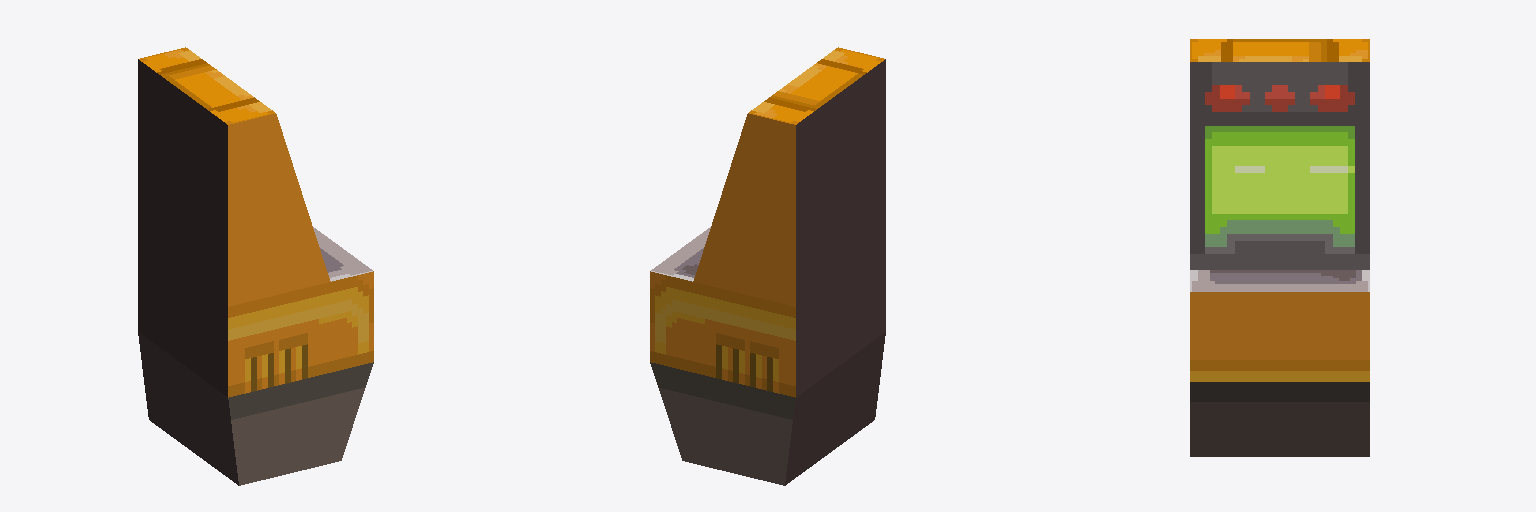
The picture shows the model from 3 angles: view 1: azimuth 30°, elevation 25°; view 2: azimuth 150°, elevation 25°; view 3: azimuth 270°, elevation 25°; orthographic projection.
Parts seen in each view (by area): view 1: singleSlot_polygon11.001_polygon11.001; view 2: singleSlot_polygon11.001_polygon11.001; view 3: singleSlot_polygon11.001_polygon11.001.
Part boxes in pixels (x1,y1,x2,y2): singleSlot_polygon11.001_polygon11.001: (138, 47, 373, 485); singleSlot_polygon11.001_polygon11.001: (650, 47, 885, 485); singleSlot_polygon11.001_polygon11.001: (1190, 39, 1369, 456).
Size of the model in its own units: 0.8395 by 2 by 0.9.
Materials: 2 (1 with a texture image).